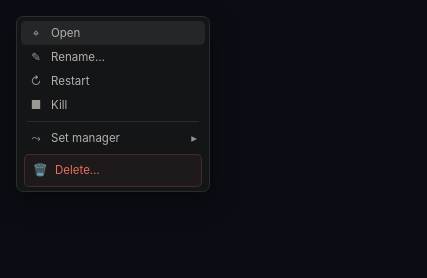
Test: AgentContextMenu — set-manager submenu › surfaces the reason and stays open when a pick fails
Click the menu item "⤳ Set manager ▸" at (113, 138), box [21,126,205,150]
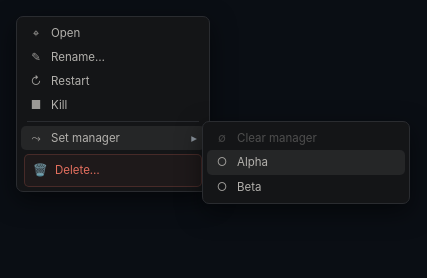
Click the menu item "○ Beta" at (306, 187), box [207,175,405,199]
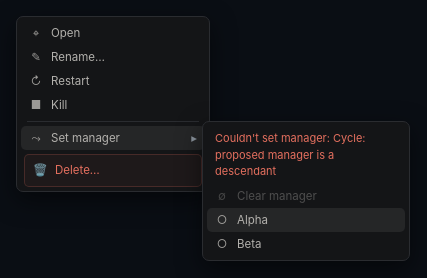
Check: the menu item "○ Alpha" is shown, box [207,208,405,232]
Check: the text "Couldn't set manager: Cycle" is shown, box [215,131,366,178]
